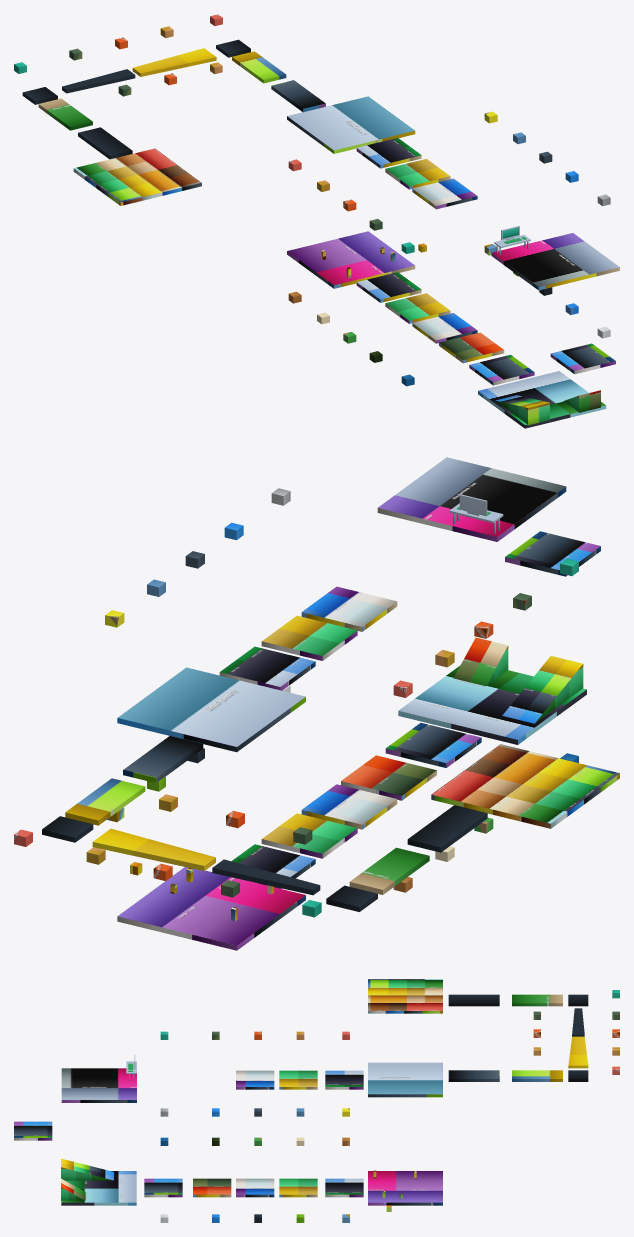
3 renders of one model, top to bottom at view 1: azimuth 30°, elevation 25°; view 2: azimuth 150°, elevation 25°; view 3: azimuth 270°, elevation 25°, orthographic. The views are drawn at different scales.
Visible parts, largest first — view 1: static.037, static.001, static, static.002, static.028, platform_move_2.004, zplatform_move_2.005, platform_move_2.007, platform_move_2.003, platform_move_2.005, platform_move_2, platform_move_2.001 (+9 smaller); view 2: static.037, static, static.002, static.001, static.028, Stairs, platform_move_2.004, platform_move_2.006, platform_move_2.007, platform_move_2.002, platform_move_2.003, platform_move_2.005 (+13 smaller); view 3: static, static.037, static.001, static.002, static.028, Stairs, platform_move_2, platform_move_2.001, platform_move_2.004, platform_move_2.005, platform_move_2.006, zplatform_move_2.005 (+9 smaller).
Boxes of the visible parts, left/top/right/bottom form: static.037: left=73, top=148, right=201, bottom=205; static.001: left=491, top=233, right=619, bottom=290; static: left=287, top=96, right=415, bottom=153; static.002: left=287, top=231, right=415, bottom=288; static.028: left=478, top=371, right=606, bottom=428; platform_move_2.004: left=469, top=354, right=534, bottom=385; zplatform_move_2.005: left=550, top=343, right=615, bottom=374; platform_move_2.007: left=412, top=178, right=477, bottom=209; platform_move_2.003: left=439, top=332, right=504, bottom=363; platform_move_2.005: left=356, top=138, right=421, bottom=168; platform_move_2: left=356, top=272, right=421, bottom=302; platform_move_2.001: left=385, top=293, right=450, bottom=323; static.037: left=431, top=744, right=619, bottom=828; static: left=117, top=667, right=305, bottom=752; static.002: left=117, top=867, right=305, bottom=950; static.001: left=377, top=457, right=566, bottom=541; static.028: left=398, top=665, right=586, bottom=744; Stairs: left=502, top=656, right=583, bottom=723; platform_move_2.004: left=385, top=723, right=481, bottom=767; platform_move_2.006: left=261, top=615, right=357, bottom=660; platform_move_2.007: left=301, top=586, right=397, bottom=631; platform_move_2.002: left=301, top=784, right=397, bottom=829; platform_move_2.003: left=341, top=755, right=436, bottom=800; platform_move_2.005: left=219, top=646, right=315, bottom=690; static: left=368, top=1062, right=442, bottom=1097; static.037: left=368, top=979, right=442, bottom=1013; static.001: left=61, top=1068, right=136, bottom=1102; static.002: left=368, top=1171, right=442, bottom=1205; static.028: left=61, top=1171, right=136, bottom=1205; Stairs: left=61, top=1158, right=113, bottom=1180; platform_move_2: left=325, top=1178, right=363, bottom=1197; platform_move_2.001: left=279, top=1178, right=317, bottom=1197; platform_move_2.004: left=144, top=1178, right=182, bottom=1197; platform_move_2.005: left=325, top=1070, right=363, bottom=1089; platform_move_2.006: left=279, top=1070, right=317, bottom=1089; zplatform_move_2.005: left=14, top=1121, right=52, bottom=1140.
Size of the model in its own units: 34.11 by 14.43 by 61.79.
1 material, 1 textured.
